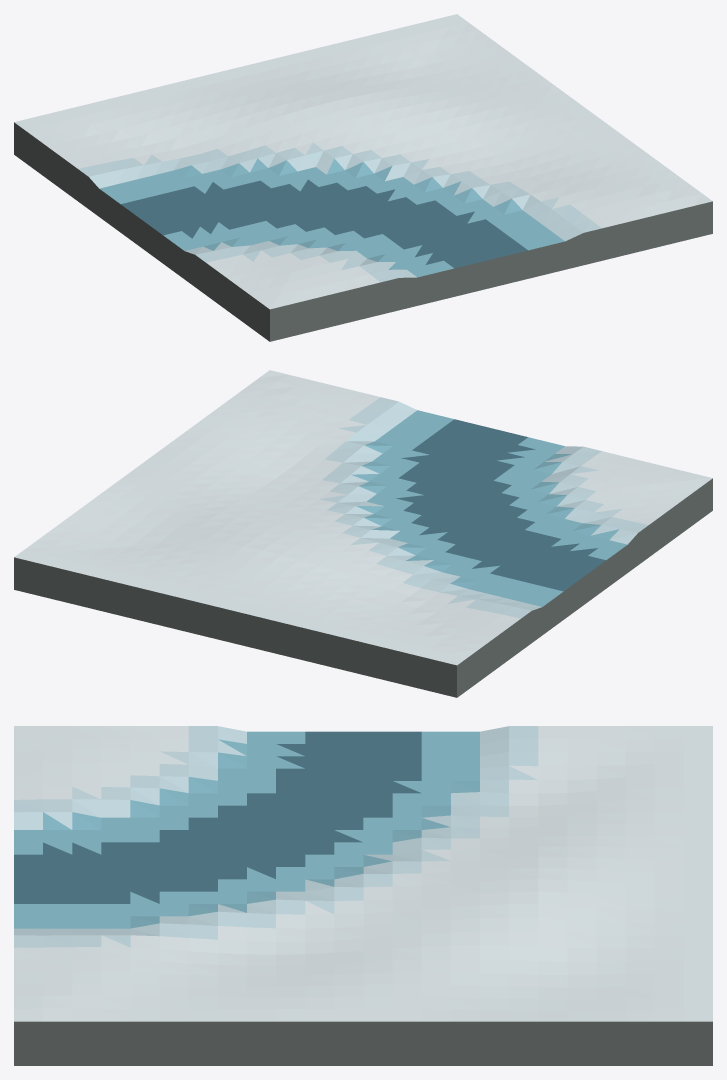
Rendered from ICE_09_StreamCurve.glb.
3 views of the same model, one above another, from view 1: azimuth 30°, elevation 25°; view 2: azimuth 150°, elevation 25°; view 3: azimuth 270°, elevation 25° (orthographic). The views are drawn at different scales.
Parts seen in each view (by area): view 1: ICE_09_StreamCurve; view 2: ICE_09_StreamCurve; view 3: ICE_09_StreamCurve.
Boxes of the visible parts, x1,y1,x2,y2 form: ICE_09_StreamCurve: (14,14,712,341); ICE_09_StreamCurve: (14,370,712,697); ICE_09_StreamCurve: (14,726,712,1065).
Size of the model in its own units: 4 by 0.3247 by 4.
